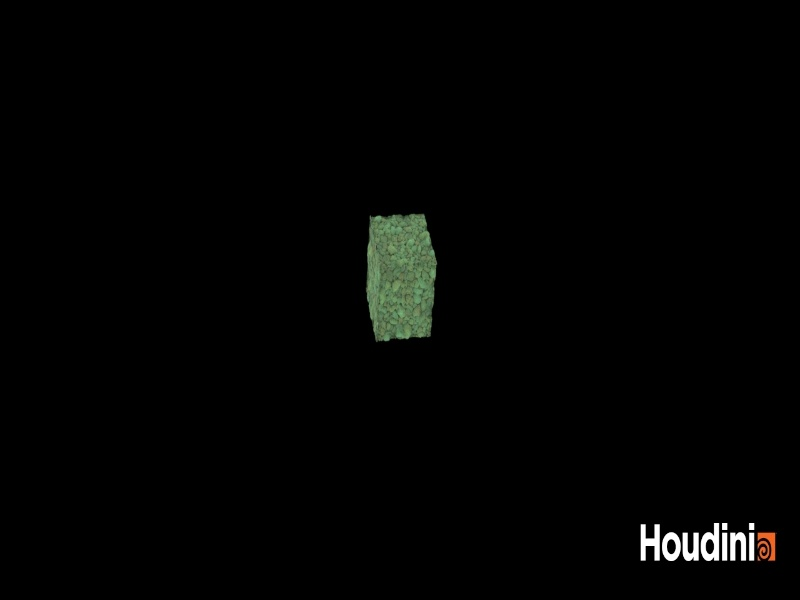waste: (348, 192, 451, 356)
